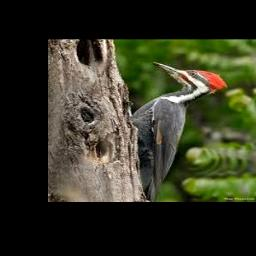Woodpecker: (130, 62, 227, 202)
